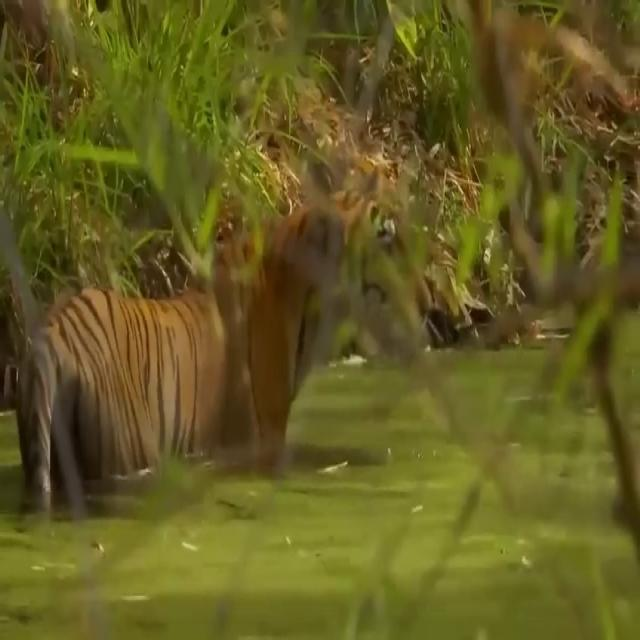tiger: (16, 167, 436, 492)
